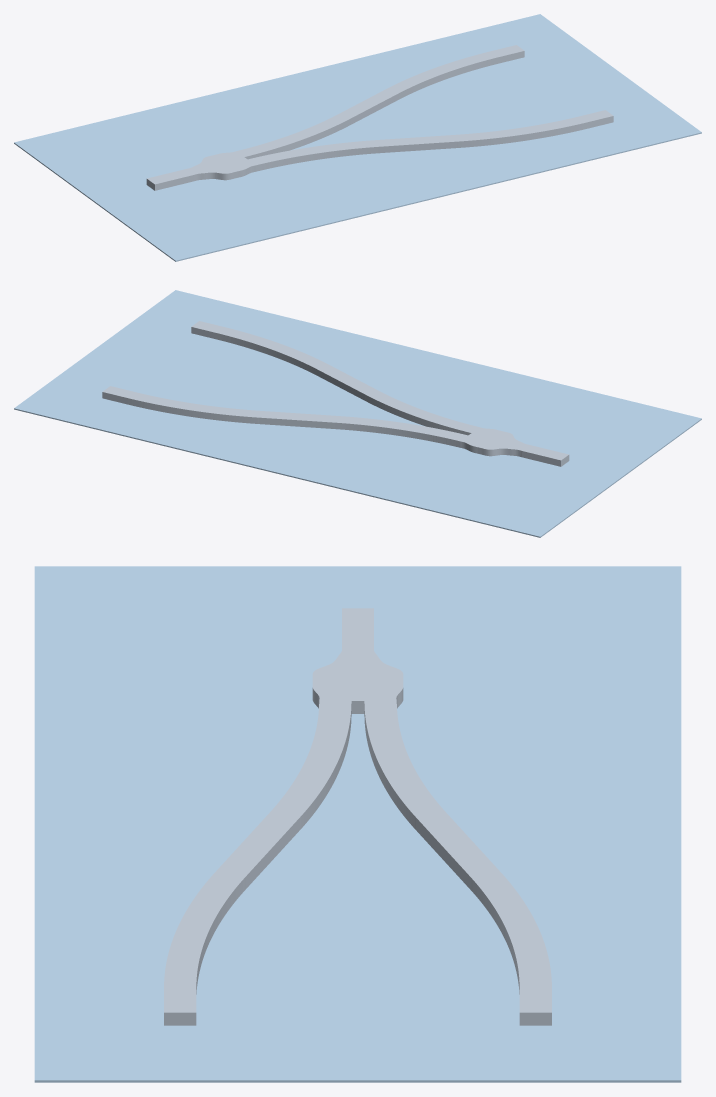
Rendered from siepic-ybranch.glb.
The picture shows the model from 3 angles, top to bottom: view 1: azimuth 30°, elevation 25°; view 2: azimuth 150°, elevation 25°; view 3: azimuth 270°, elevation 25°; orthographic projection. The views are drawn at different scales.
Parts seen in each view (by area): view 1: box_top, core_0; view 2: box_top, core_0; view 3: box_top, core_0.
Part boxes in pixels (x1,y1,x2,y2): box_top: [14, 14, 701, 261]; core_0: [146, 45, 613, 190]; box_top: [14, 290, 701, 537]; core_0: [102, 321, 569, 466]; box_top: [34, 566, 681, 1082]; core_0: [164, 608, 551, 1025].
Size of the model in its own units: 18.8 by 0.26 by 10.
